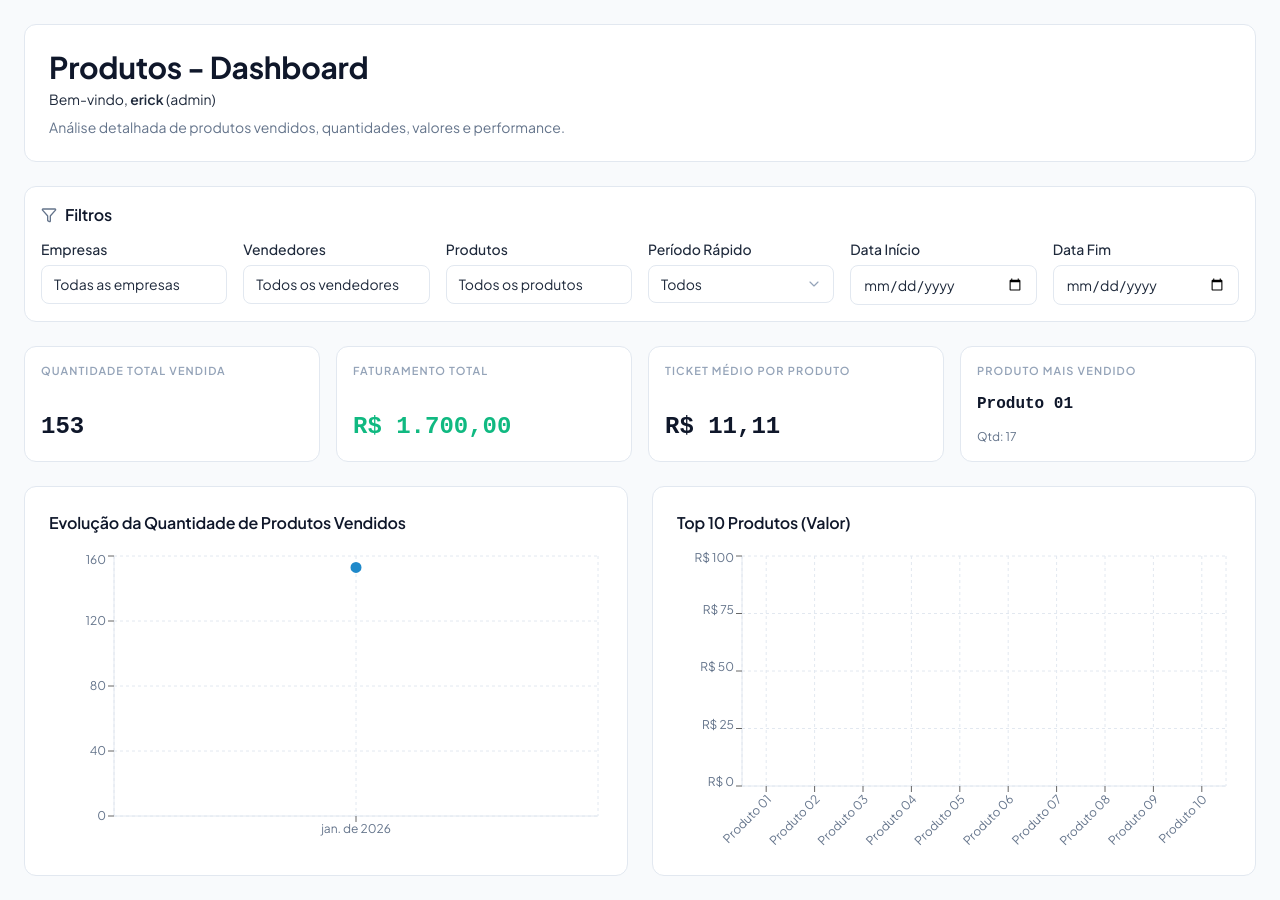
preset de periodo em Produtos › Mes atual vai do dia 1 ao ULTIMO dia do mes, e nao ate hoje
Step 1. Select "Mês atual" in the dropdown labelled "Período Rápido" → (741, 284), box [648,265,834,303]
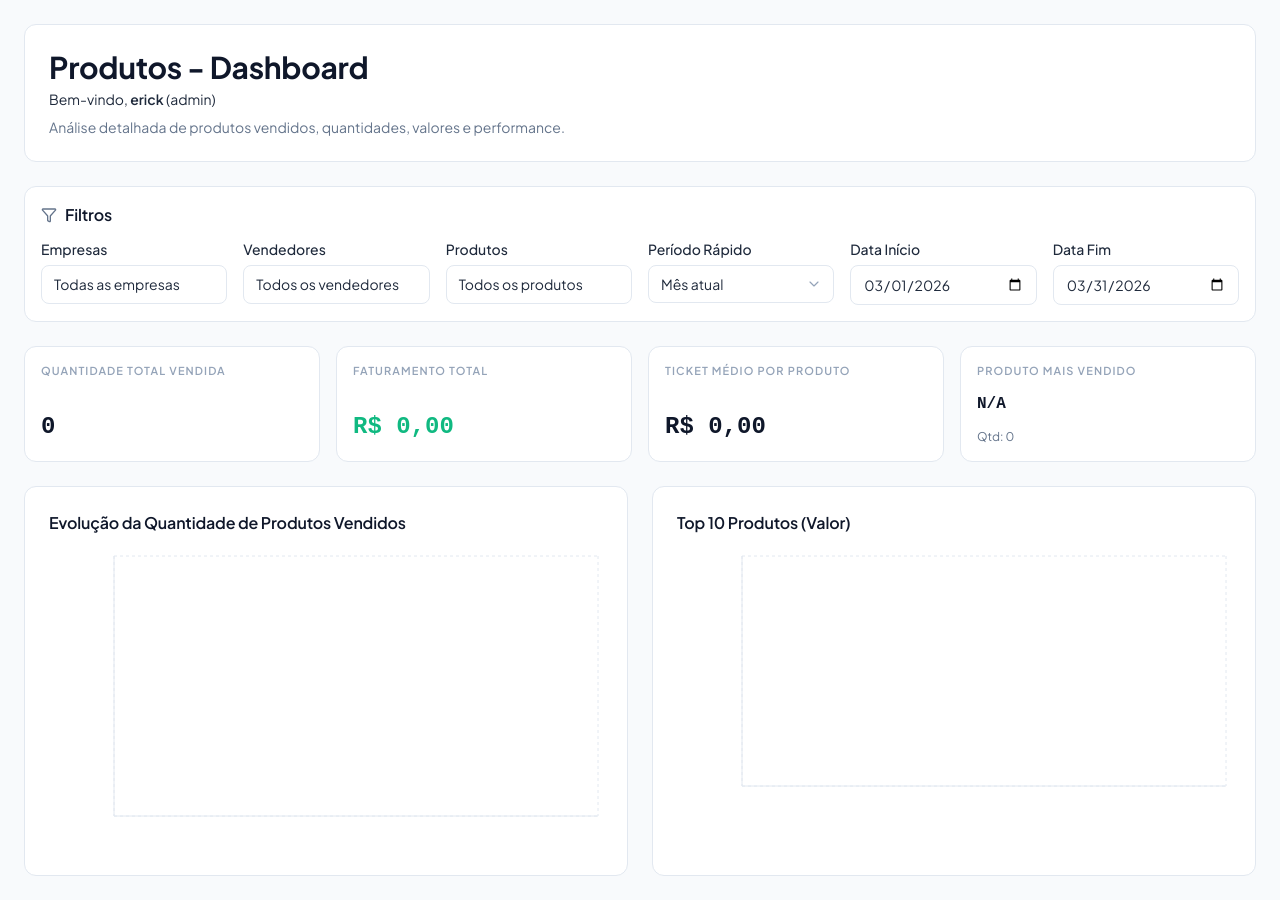
Expected: the date field labelled "Data Início" holds "2026-03-01", [850,265,1037,305]
Expected: the date field labelled "Data Fim" holds "2026-03-31", [1053,265,1239,305]
